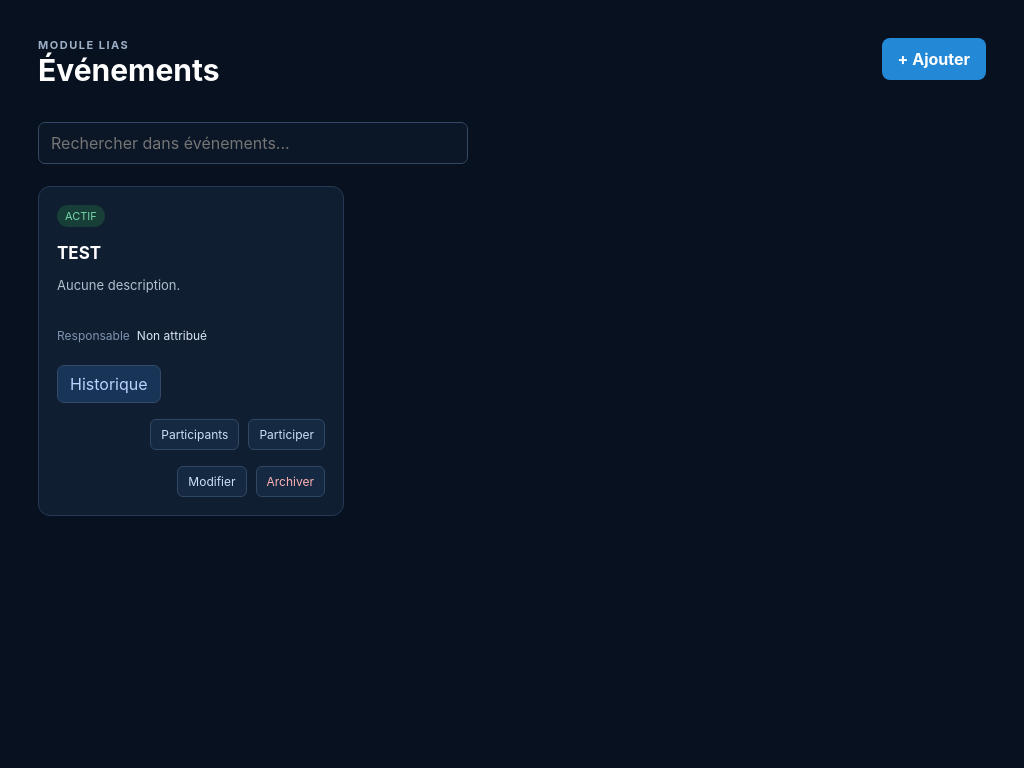
Test case: exclut les retraités et anciens des nouveaux organisateurs
Click the button "Modifier" at coordinates (212, 482), box [177, 466, 247, 497]
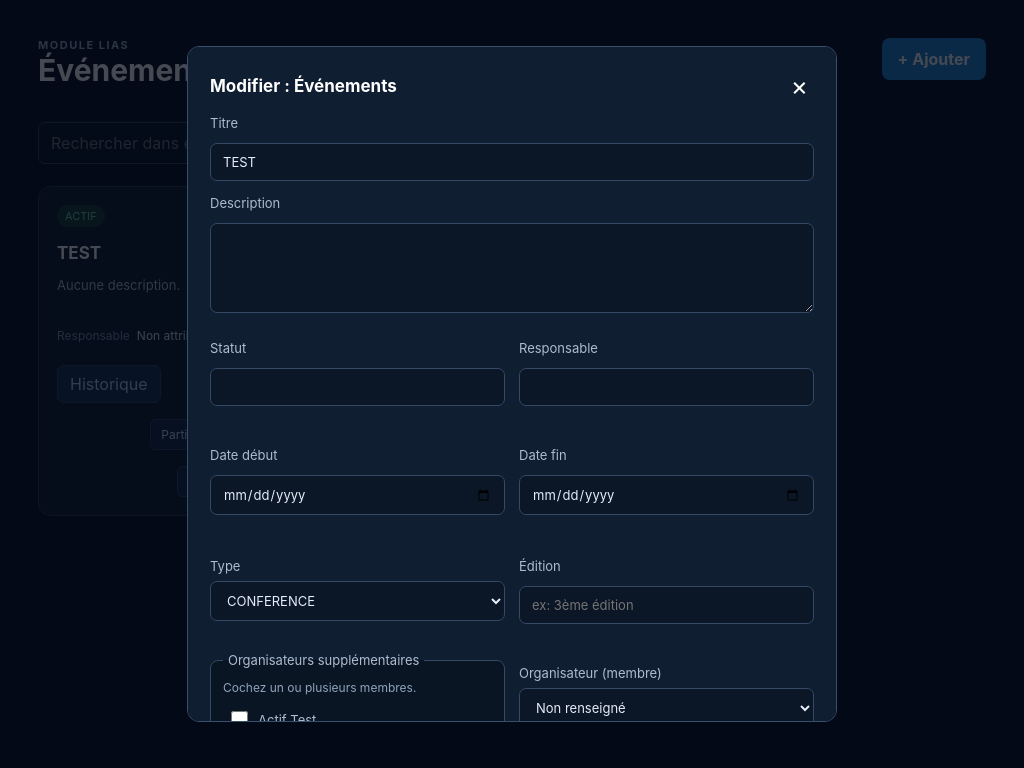
Check: the checkbox labelled "Actif Test" is shown, box [231, 711, 248, 722]
